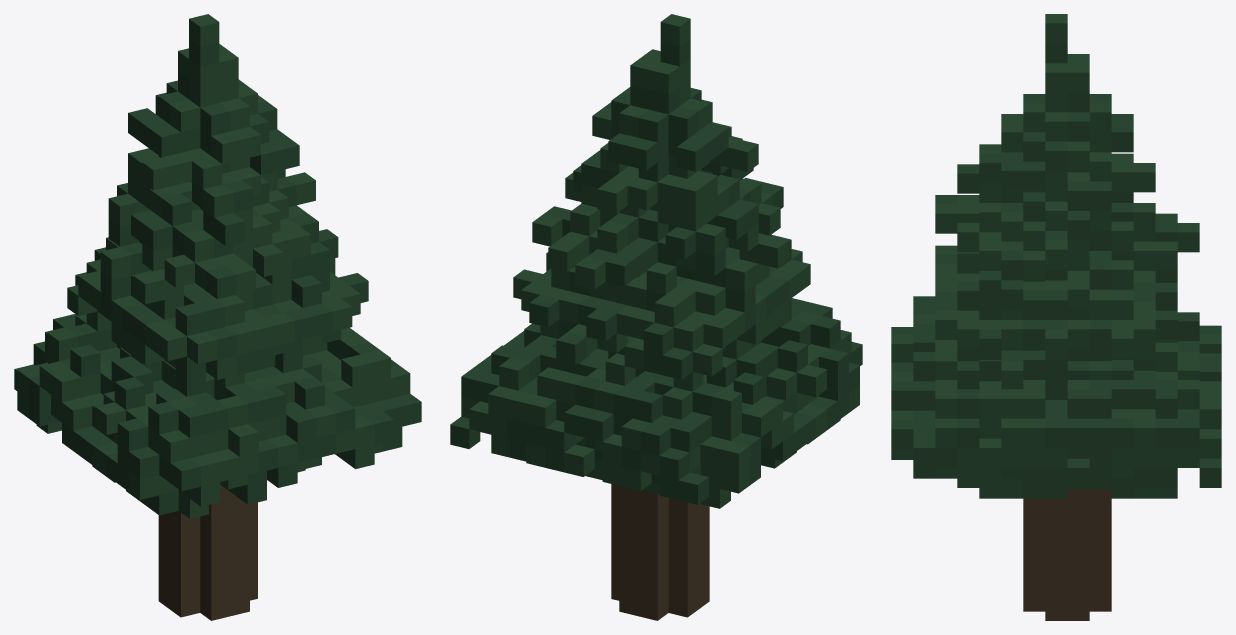
The model's file is church-18-ch_tree.obj.
3 renders of one model, left to right at view 1: azimuth 30°, elevation 25°; view 2: azimuth 150°, elevation 25°; view 3: azimuth 270°, elevation 25°, orthographic.
Visible parts, largest first — view 1: ch_tree; view 2: ch_tree; view 3: ch_tree.
Boxes of the visible parts, left/top/right/bottom form: ch_tree: left=14, top=14, right=421, bottom=620; ch_tree: left=450, top=14, right=862, bottom=620; ch_tree: left=891, top=14, right=1221, bottom=620.
Size of the model in its own units: 1.4 by 2.9 by 1.5.
Materials: 1 (1 with a texture image).
